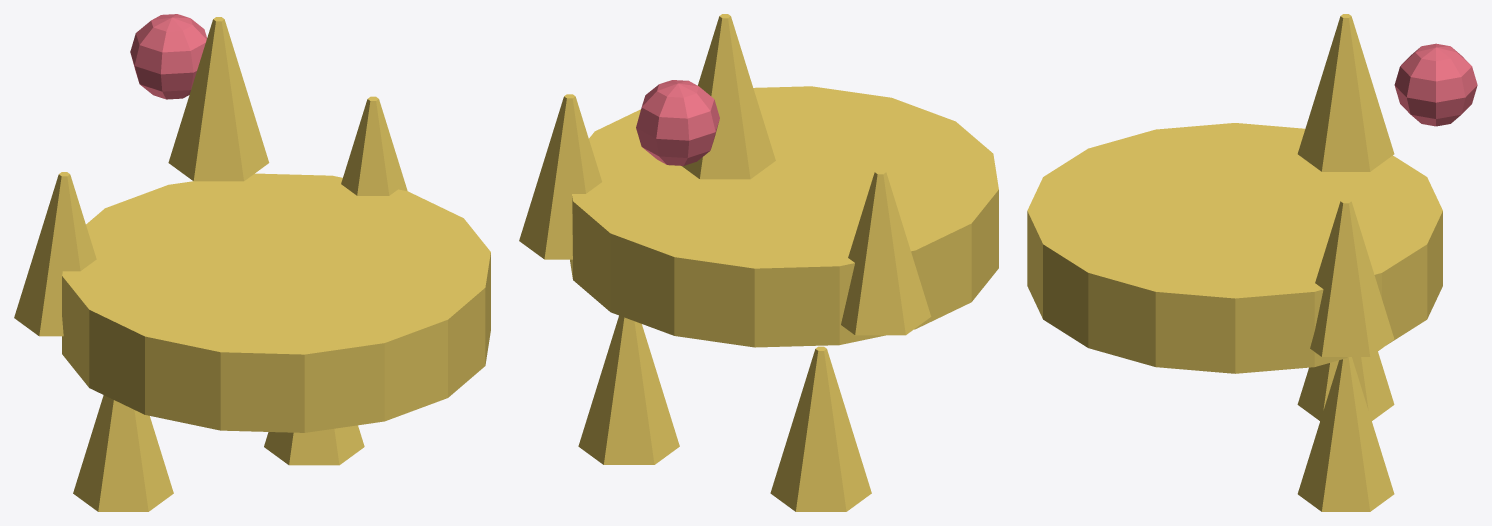
The model's file is crown.glb.
The picture shows the model from 3 angles, left to right: view 1: azimuth 30°, elevation 25°; view 2: azimuth 150°, elevation 25°; view 3: azimuth 270°, elevation 25°; orthographic projection. The views are drawn at different scales.
Parts seen in each view (by area): view 1: Cylinder, Cone, Cone.002, Cone.001, Sphere, Cone.004, Cone.003; view 2: Cylinder, Cone.002, Cone.003, Cone.001, Cone, Cone.004, Sphere; view 3: Cylinder, Cone, Cone.003, Cone.004, Sphere, Cone.002.
Boxes of the visible parts, x1,y1,x2,y2 form: Cylinder: (62, 173, 490, 432); Cone: (168, 17, 269, 181); Cone.002: (73, 395, 173, 511); Cone.001: (14, 172, 96, 336); Sphere: (130, 14, 206, 99); Cone.004: (341, 96, 407, 195); Cone.003: (264, 425, 364, 465); Cylinder: (570, 86, 998, 347); Cone.002: (770, 346, 871, 511); Cone.003: (578, 315, 679, 464); Cone.001: (841, 170, 931, 335); Cone: (682, 14, 775, 179); Cone.004: (519, 94, 601, 259); Sphere: (636, 80, 719, 165); Cylinder: (1027, 123, 1442, 373); Cone: (1297, 14, 1394, 171); Cone.003: (1297, 357, 1394, 511); Cone.004: (1310, 199, 1394, 356); Sphere: (1394, 43, 1477, 126); Cone.002: (1297, 352, 1394, 420).
Size of the model in its own units: 0.3079 by 0.3452 by 0.325.
